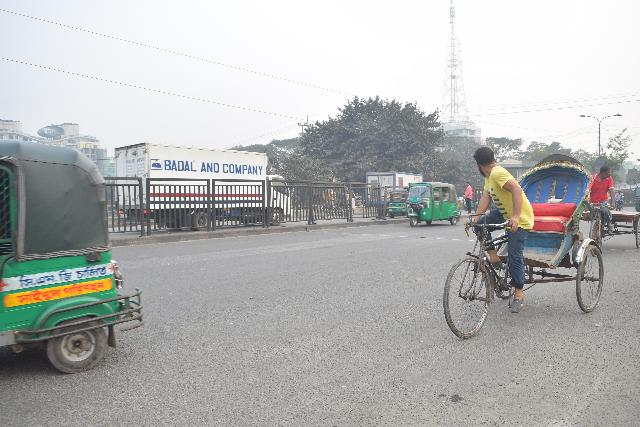truck: (117, 145, 293, 232), (362, 168, 420, 212)
